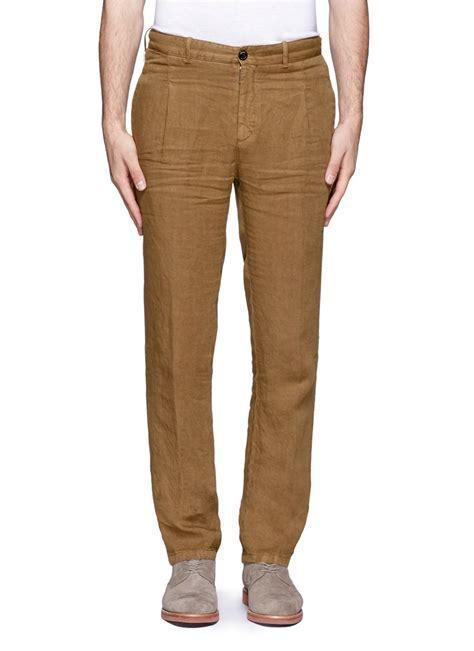pants: (133, 28, 338, 568)
